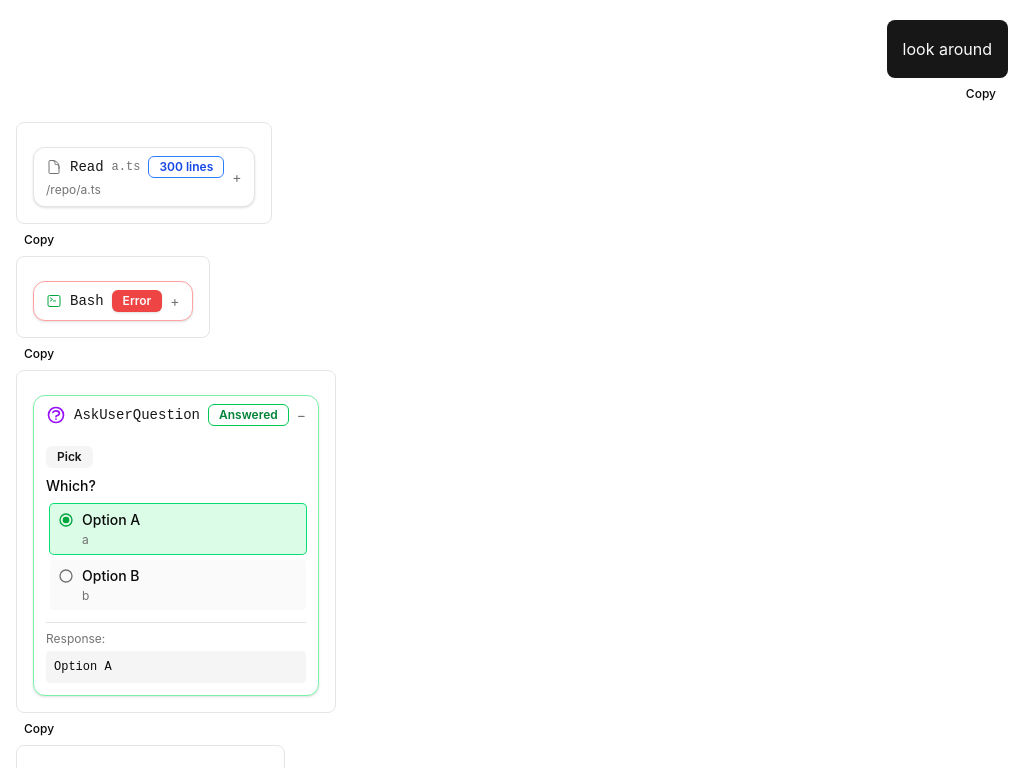
Test case: MessageList lazy tool-result bodies › renders a short error without a fetch
Click the button "Bash Error +". click: (113, 301)
box: [34,282,192,320]
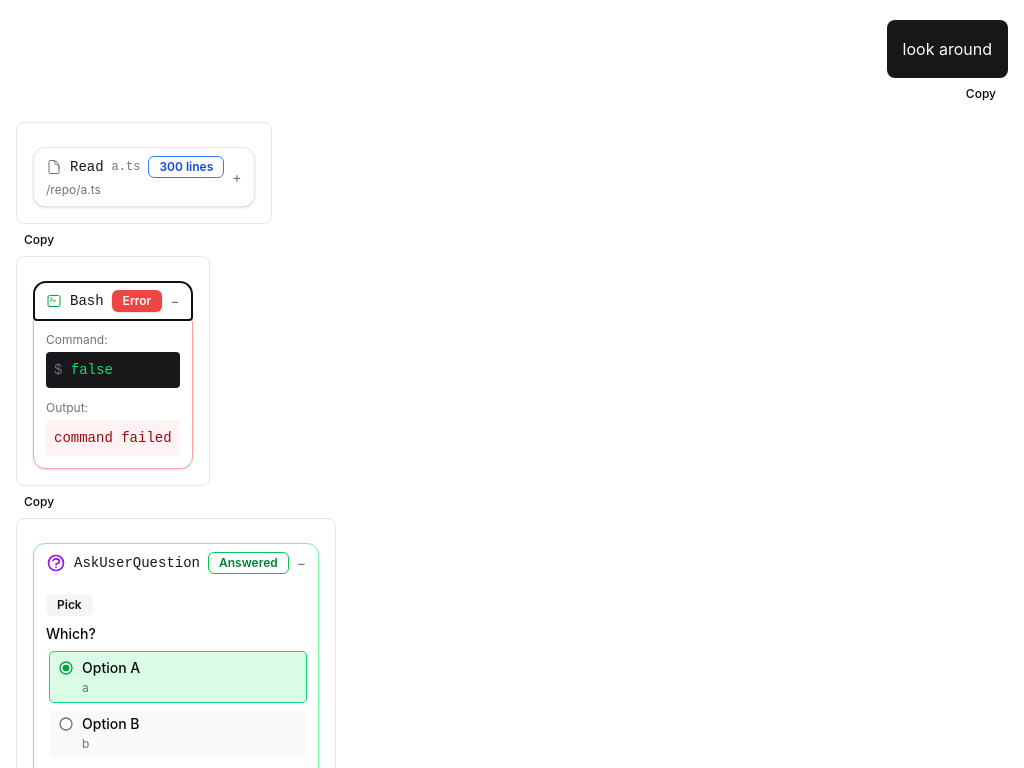
Check: the text "command failed" is shown, box [46,420,180,456]
